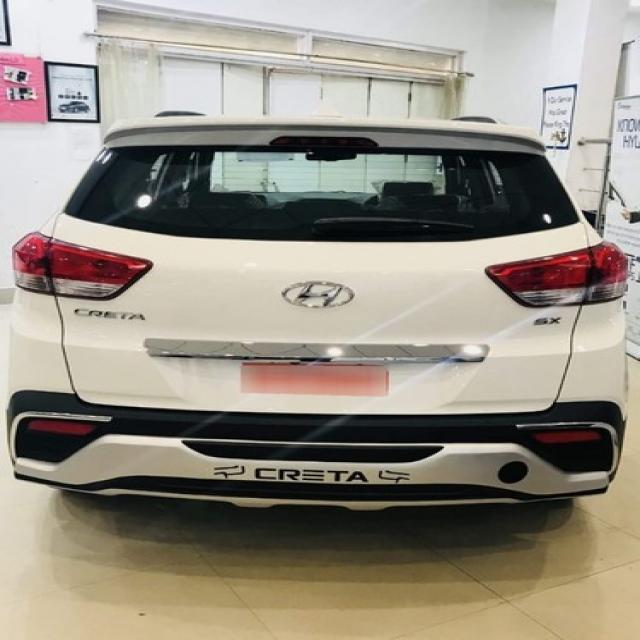Number-Plate: (242, 364, 392, 398)
